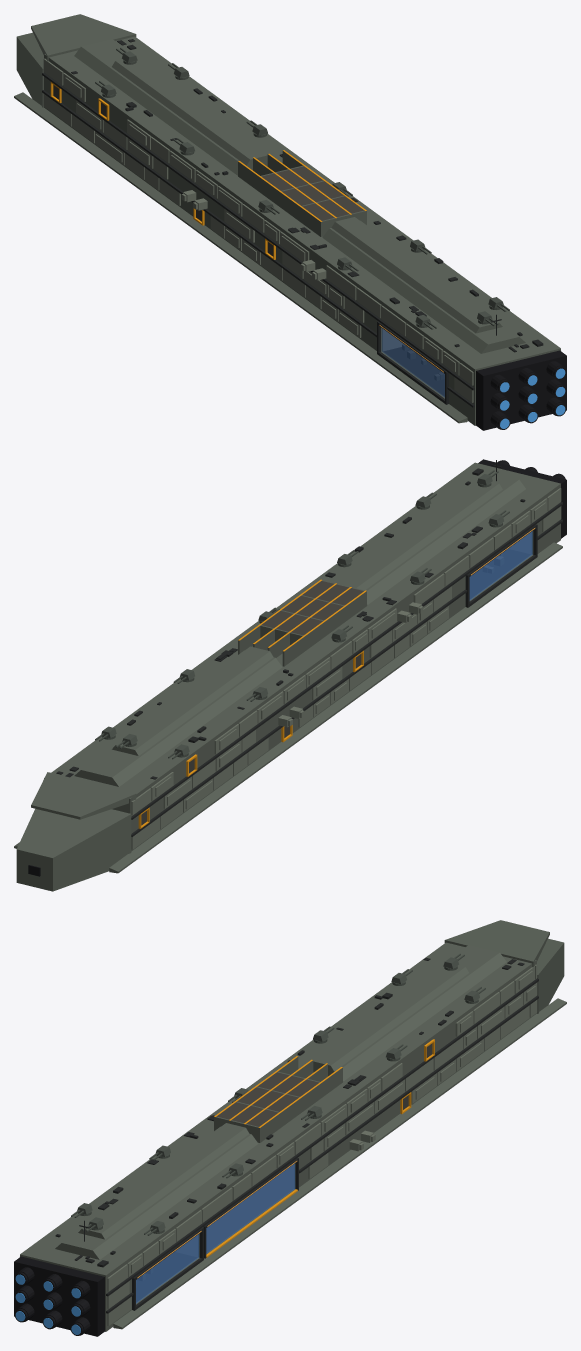
The model's file is ship_XL.obj.
3 views of the same model, one above another, from view 1: azimuth 30°, elevation 25°; view 2: azimuth 150°, elevation 25°; view 3: azimuth 330°, elevation 25° (orthographic).
Parts seen in each view (by area): view 1: XL_Hull-col, XL_Armor, XL_Engines, XL_Trim, XL_HangarShield_Port, XL_Hazard, XL_Details, XL_Decks-col, XL_EngineGlow; view 2: XL_Hull-col, XL_Armor, XL_Trim, XL_HangarShield_Port, XL_Hazard, XL_Details, XL_Engines, XL_Decks-col; view 3: XL_Hull-col, XL_Armor, XL_Engines, XL_Trim, XL_CargoBayShield, XL_CargoBayDoor-col, XL_HangarShield_Starboard, XL_Hazard, XL_Details, XL_Decks-col, XL_EngineGlow.
Boxes of the visible parts, x1,y1,x2,y2 form: XL_Hull-col: (14, 14, 560, 425); XL_Armor: (43, 58, 473, 402); XL_Engines: (476, 350, 566, 430); XL_Trim: (42, 72, 474, 407); XL_HangarShield_Port: (381, 328, 444, 397); XL_Hazard: (50, 82, 366, 259); XL_Details: (71, 39, 543, 352); XL_Decks-col: (383, 347, 444, 396); XL_EngineGlow: (500, 368, 565, 428); XL_Hull-col: (14, 462, 562, 891); XL_Armor: (131, 488, 561, 849); XL_Trim: (131, 502, 562, 836); XL_HangarShield_Port: (469, 531, 532, 599); XL_Hazard: (138, 579, 366, 828); XL_Details: (56, 460, 525, 779); XL_Engines: (28, 459, 566, 876); XL_Decks-col: (469, 549, 530, 598); XL_Hull-col: (20, 920, 566, 1331); XL_Armor: (107, 964, 537, 1326); XL_Engines: (14, 1256, 104, 1336); XL_Trim: (106, 978, 538, 1313); XL_CargoBayShield: (206, 1163, 294, 1253); XL_CargoBayDoor-col: (206, 1164, 294, 1252); XL_HangarShield_Starboard: (136, 1234, 198, 1303); XL_Hazard: (206, 1039, 434, 1257); XL_Details: (55, 957, 524, 1267); XL_Decks-col: (136, 1252, 197, 1302); XL_EngineGlow: (15, 1274, 80, 1334).
Size of the model in its own units: 26.3 by 21.4 by 210.
